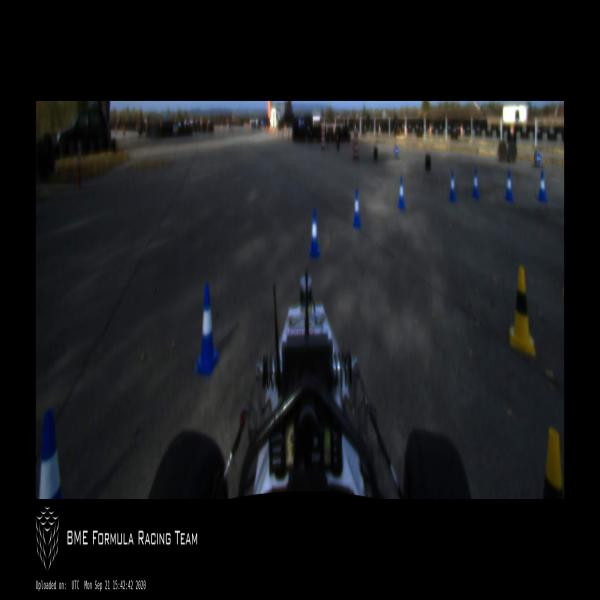blue_cone: (194, 283, 220, 378), (39, 410, 61, 498), (308, 210, 320, 257), (351, 188, 362, 227), (537, 169, 547, 202), (504, 170, 514, 201), (470, 168, 479, 198), (397, 176, 405, 208), (448, 171, 456, 200)
yellow_cone: (509, 263, 533, 357), (542, 427, 564, 498)
